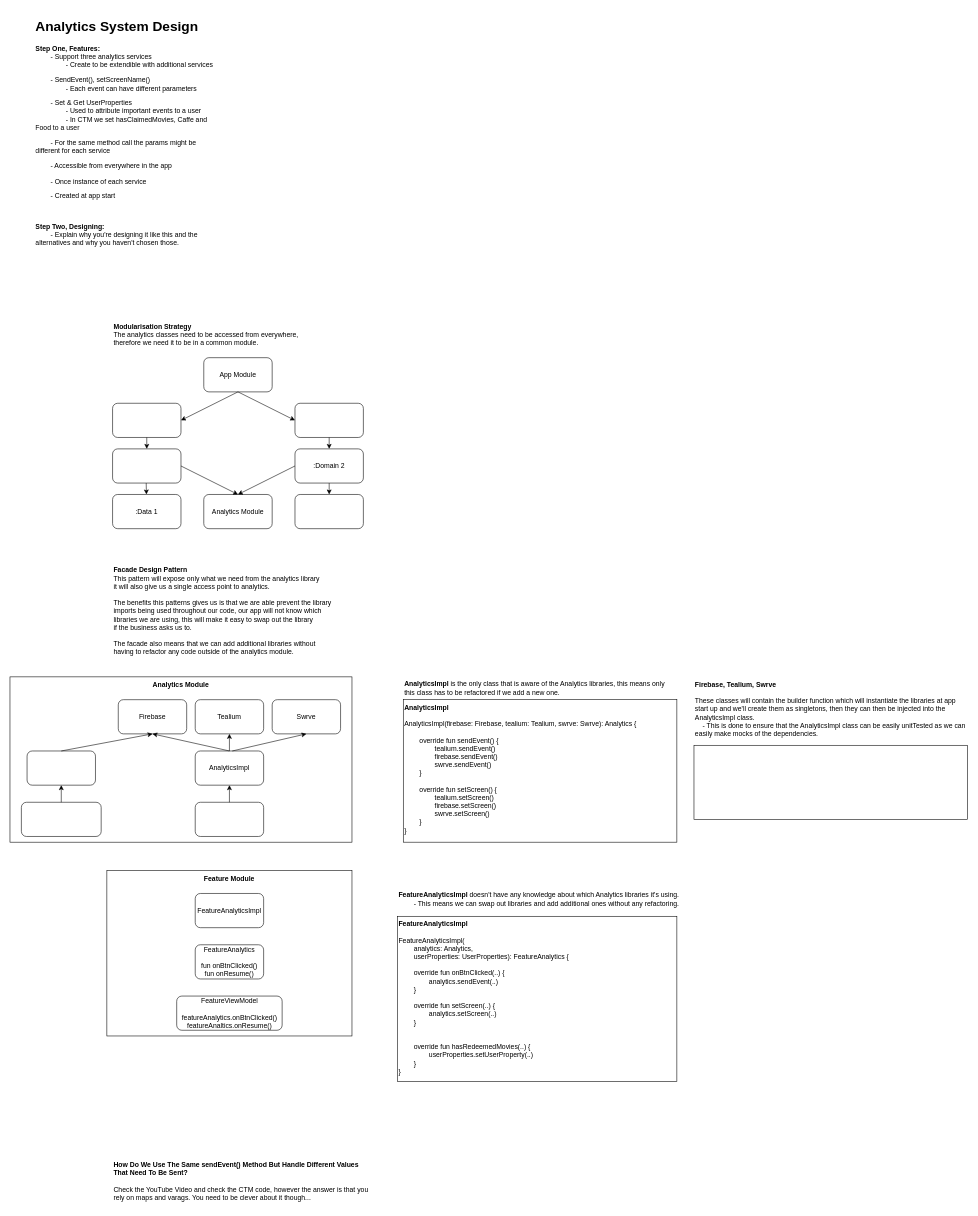
Image size: 978x1216. Some labels were removed from this diagram. The centre of each missing label's shape, as x and y in pixels:
":Data 2" goes at (x=328, y=511).
":Domain 1" goes at (x=146, y=465).
":Feature 1" goes at (x=146, y=420).
":Feature 2" goes at (x=328, y=420).
"Analytics fun sendEvent() fun setScreen()" goes at (x=229, y=819).
"Firebase, Tealium, Swrve Firebase.build()" goes at (x=830, y=782).
"UserProperties fun setUserProperty() fun getUserProperty()" goes at (x=61, y=819).
"UserPropertiesImpl" goes at (x=61, y=767).
